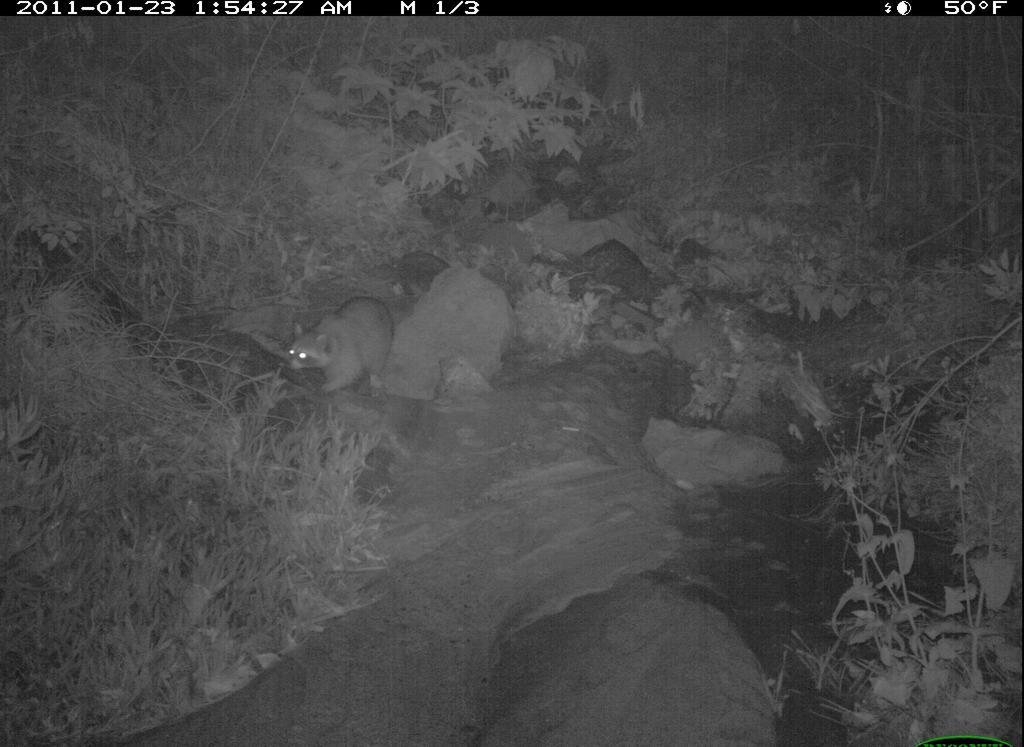raccoon: (285, 290, 411, 400)
